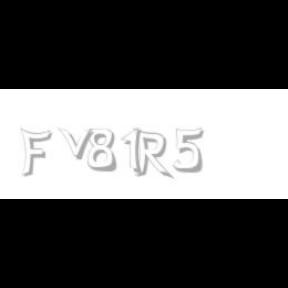1: (121, 128, 143, 176)
5: (172, 128, 204, 174)
8: (88, 128, 116, 172)
F: (19, 128, 51, 178)
R: (133, 128, 171, 180)
v: (58, 128, 98, 160)
